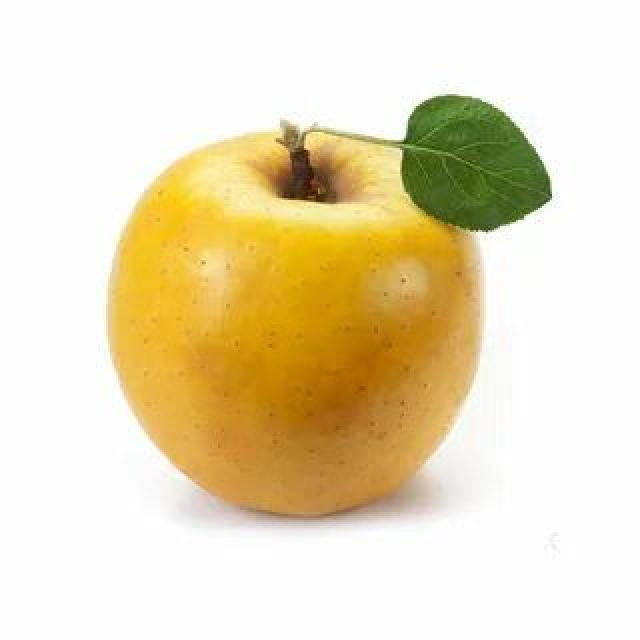Fresh Apple: (120, 138, 475, 510)
